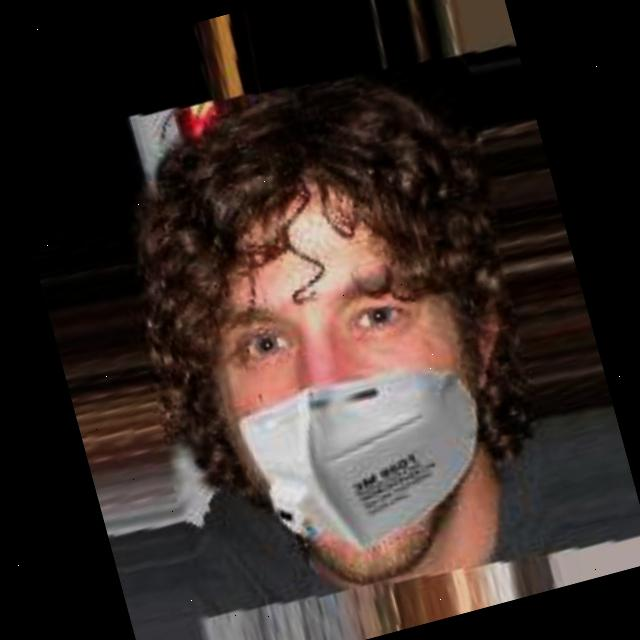suspicion: (94, 52, 558, 605)
